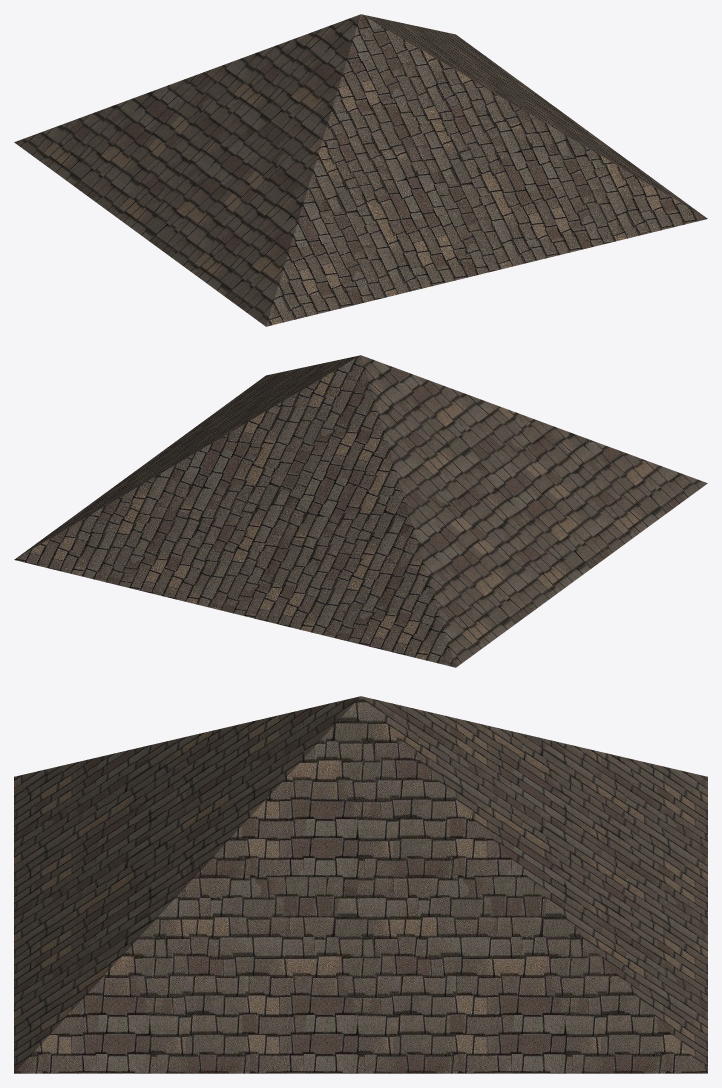
File: roof.obj
The picture shows the model from 3 angles, top to bottom: view 1: azimuth 30°, elevation 25°; view 2: azimuth 150°, elevation 25°; view 3: azimuth 270°, elevation 25°; orthographic projection. The views are drawn at different scales.
Parts seen in each view (by area): view 1: Cube.001_Cube.006; view 2: Cube.001_Cube.006; view 3: Cube.001_Cube.006.
Boxes of the visible parts, x1,y1,x2,y2 form: Cube.001_Cube.006: (14,14,707,326); Cube.001_Cube.006: (14,355,707,667); Cube.001_Cube.006: (14,696,707,1073).
Size of the model in its own units: 4.92 by 1.77 by 4.86.
